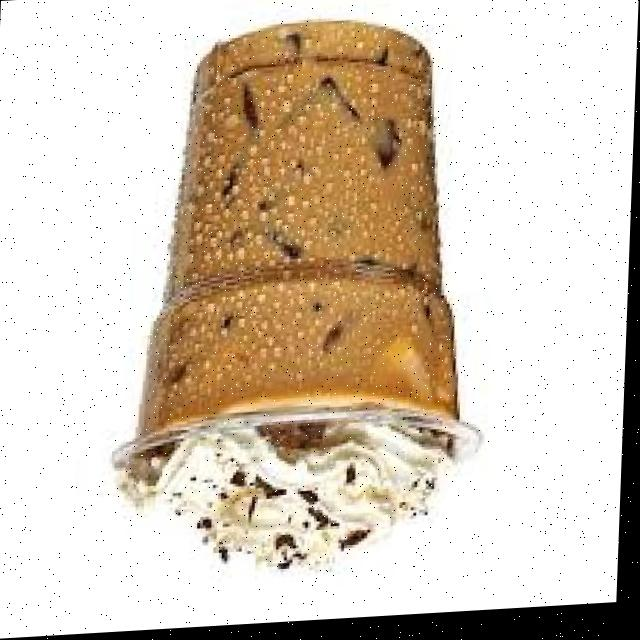cup: (118, 30, 481, 501)
